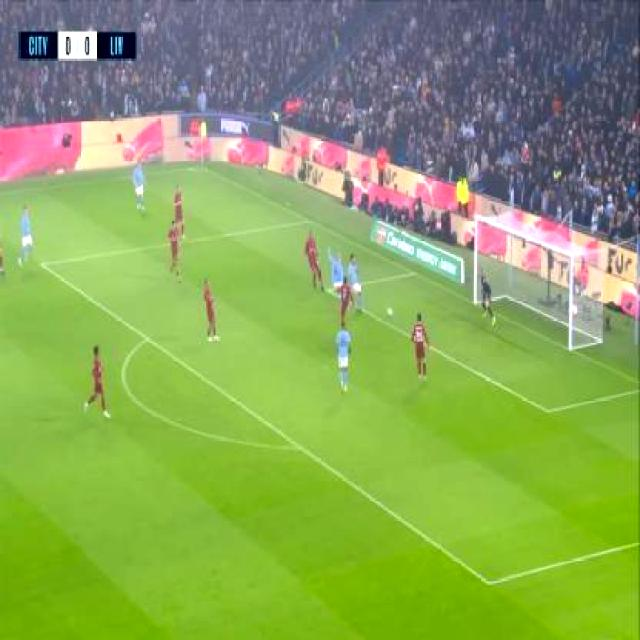bigarea_bottom_inner: (477, 566, 503, 600)
bigarea_top_inner: (31, 251, 52, 278)
bigarea_top_outter: (301, 212, 317, 231)
bottom_arc_area_intersection: (286, 425, 316, 469)
corner: (196, 163, 207, 174)
smallarea_bottom_inner: (535, 400, 560, 426)
smallarea_top_inner: (324, 283, 334, 297)
smallarea_top_outter: (406, 266, 422, 283)
top_arc_area_intersection: (138, 326, 158, 352)
